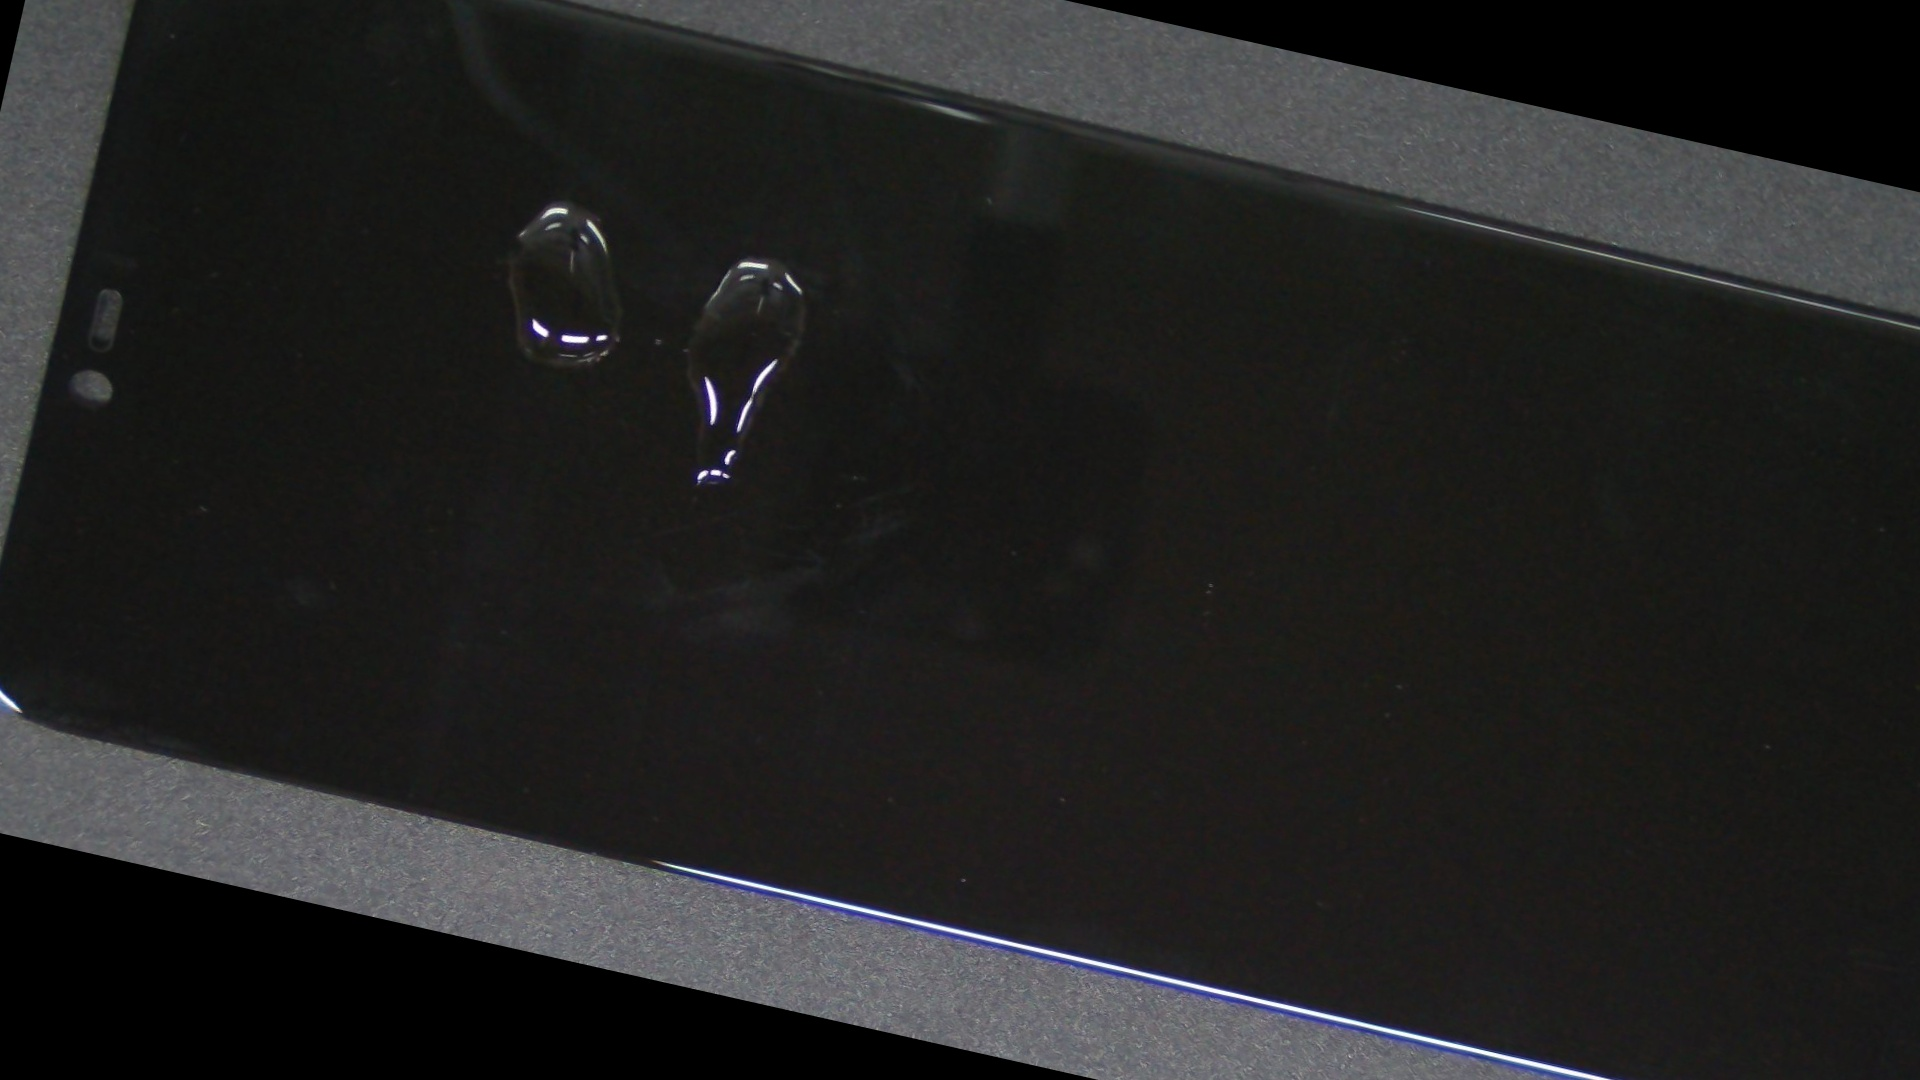oil: (356, 17, 1191, 497), (256, 0, 881, 414)
